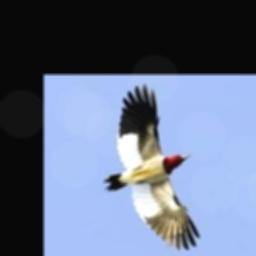Woodpecker: (103, 83, 199, 249)
